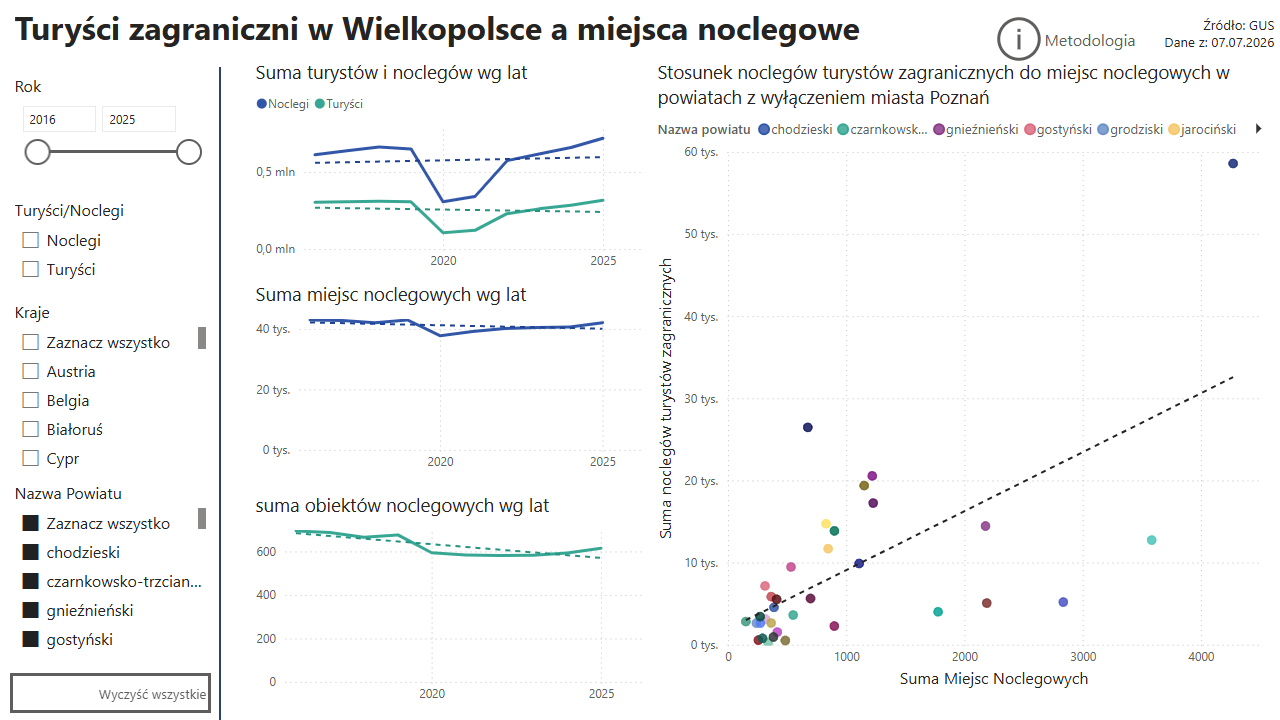

What the dashboard file says about the page in this screenshot:
{"tool":"powerbi","page":{"name":"Miejsca noclegowe","canvas":[1280,720],"ordinal":4},"visuals":[{"type":"slicer","fields":{"Values":["DANE_Wielkopolska.Rok"]},"box":[9.7,79.8,201.3,99.2],"z":0},{"type":"shape","box":[211.1,67.1,17.5,652.6],"z":1000},{"type":"slicer","fields":{"Values":["DANE_Wielkopolska.Kraje"]},"box":[9.7,292.8,193.6,172.2],"z":2000},{"type":"slicer","fields":{"Values":["DANE_Wielkopolska.Nazwa powiatu"]},"box":[9.7,479,193.6,179.9],"z":3000},{"type":"textbox","box":[9.7,0,892.9,59.3],"z":4000},{"type":"slicer","fields":{"Values":["DANE_Wielkopolska.Turyści/Noclegi - etykieta"]},"box":[9.7,193.6,193.6,99.2],"z":5000},{"type":"actionButton","box":[9.7,673.1,201.3,39.9],"z":6000},{"type":"textbox","box":[1122.1,10.7,157.6,56.4],"z":7000},{"type":"scatterChart","title":"Stosunek noclegów turystów zagranicznych do miejsc noclegowych w powiatach z wyłączeniem miasta Poznań","fields":{"Series":["DANE_Wielkopolska.Nazwa powiatu"],"X":["Sum(MiejscaNoclegowe.Wartosc)"],"Y":["Sum(DANE_Wielkopolska.Wartosc)"]},"box":[653.3,58.9,624.4,634.4],"z":8000},{"type":"lineChart","title":"Turyści i noclegi wg lat","fields":{"Category":["DANE_Wielkopolska.Rok"],"Series":["DANE_Wielkopolska.Turyści/Noclegi - etykieta"],"Y":["Sum(DANE_Wielkopolska.Wartosc)"]},"box":[251.1,58.9,402.2,220],"z":9000},{"type":"lineChart","title":"Miejsca noclegowe wg lat","fields":{"Category":["MiejscaNoclegowe.Rok"],"Series":["MiejscaNoclegowe.Obiekty, miejsca i pokoje"],"Y":["Sum(MiejscaNoclegowe.Wartosc)"]},"box":[251.1,281.1,402.2,198.9],"z":10000},{"type":"lineChart","title":"Obiekty noclegowe wg lat","fields":{"Category":["MiejscaNoclegowe.Rok"],"Series":["MiejscaNoclegowe.Obiekty, miejsca i pokoje"],"Y":["Sum(MiejscaNoclegowe.Wartosc)"]},"box":[251.1,492.2,402.2,220],"z":11000},{"type":"actionButton","box":[991.1,10.7,148.8,56.4],"z":12000}]}

Visuals, with their boxes in screenshot pixels (x1, y1, x2, y2), scaled from the page's 1280x720 canvas onto the 1280x720 screenshot:
slicer - DANE_Wielkopolska.Rok: 10,80,211,179
shape: 211,67,229,719
slicer - DANE_Wielkopolska.Kraje: 10,293,203,465
slicer - DANE_Wielkopolska.Nazwa powiatu: 10,479,203,659
textbox: 10,0,903,59
slicer - DANE_Wielkopolska.Turyści/Noclegi - etykieta: 10,194,203,293
actionButton: 10,673,211,713
textbox: 1122,11,1279,67
"Stosunek noclegów turystów zagranicznych do miejsc noclegowych w powiatach z wyłączeniem miasta Poznań" scatterChart: 653,59,1278,693
"Turyści i noclegi wg lat" lineChart: 251,59,653,279
"Miejsca noclegowe wg lat" lineChart: 251,281,653,480
"Obiekty noclegowe wg lat" lineChart: 251,492,653,712
actionButton: 991,11,1140,67
